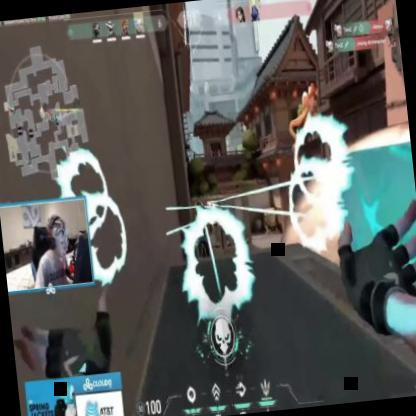enemy: (190, 200, 217, 270)
enemy_head: (196, 203, 206, 220)
